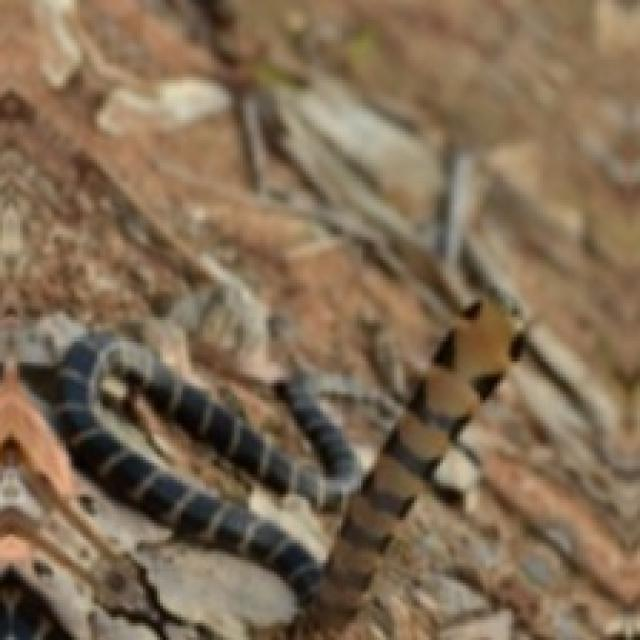king cobra: (0, 297, 520, 637)
